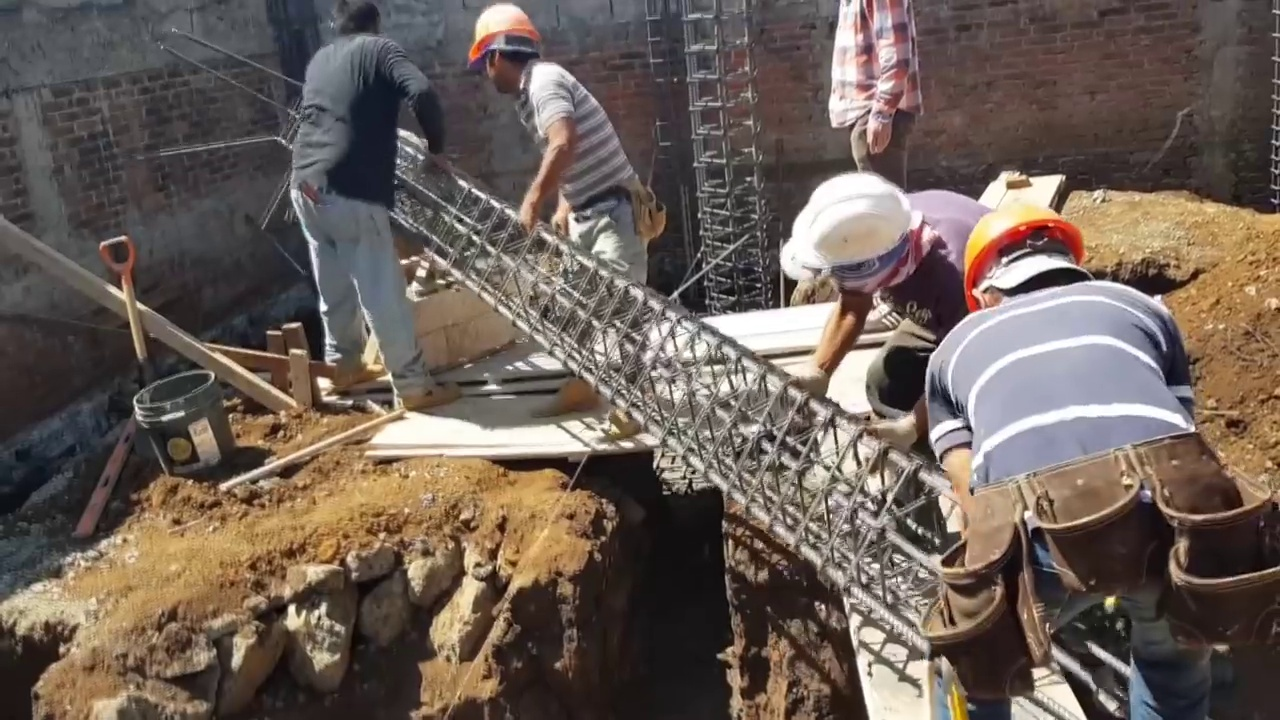helmet: (787, 170, 919, 279), (954, 196, 1084, 287), (465, 4, 540, 71)
helmet-off: (325, 5, 381, 41)
helmet-on: (781, 168, 936, 304), (954, 199, 1088, 317), (463, 6, 538, 98)
person: (914, 199, 1241, 720), (772, 167, 980, 612), (457, 6, 655, 421), (283, 0, 445, 397), (825, 0, 925, 196)
